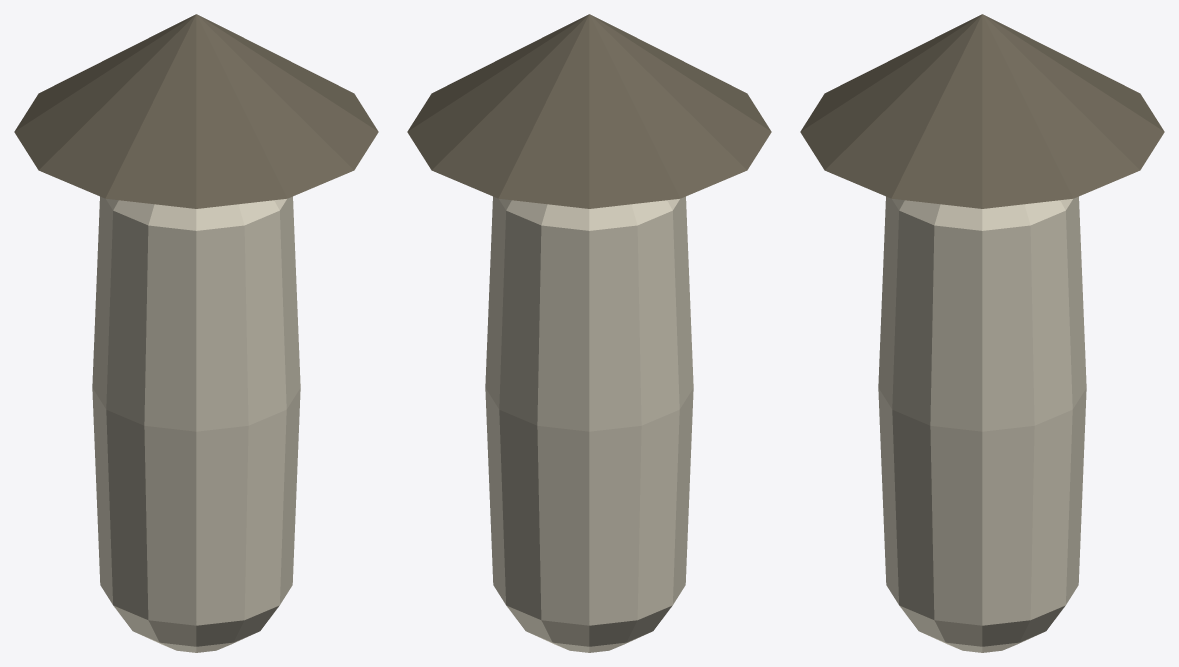
File: player.glb
The picture shows the model from 3 angles, left to right: view 1: azimuth 30°, elevation 25°; view 2: azimuth 150°, elevation 25°; view 3: azimuth 270°, elevation 25°; orthographic projection.
Parts seen in each view (by area): view 1: player_body, player_hat; view 2: player_body, player_hat; view 3: player_body, player_hat.
Boxes of the visible parts, x1,y1,x2,y2 form: player_body: [92, 196, 300, 652]; player_hat: [14, 14, 378, 208]; player_body: [485, 196, 693, 652]; player_hat: [407, 14, 771, 208]; player_body: [878, 196, 1086, 652]; player_hat: [800, 14, 1164, 208].
Bounding box in the file's own units: 0.84 × 1.6 × 0.84.
